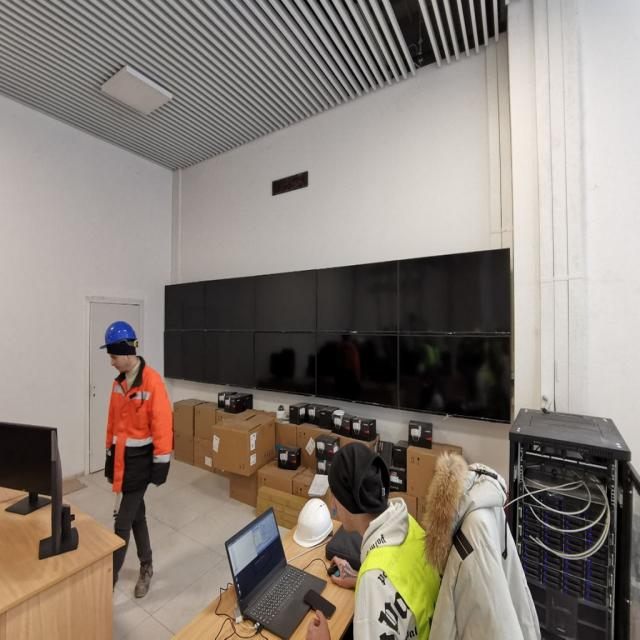Helmet: (328, 443, 392, 536), (100, 321, 141, 375)
